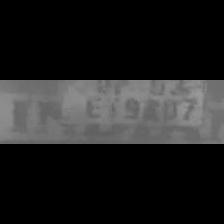2: (139, 94, 159, 122)
9: (80, 92, 110, 122), (118, 92, 144, 124)
U: (163, 92, 179, 122)
